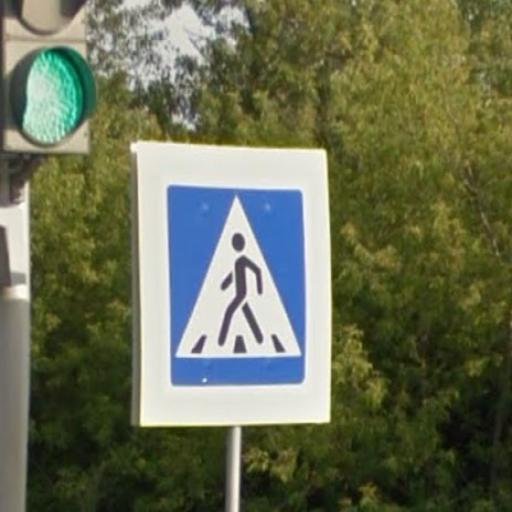traffic_sign: (140, 141, 333, 427)
